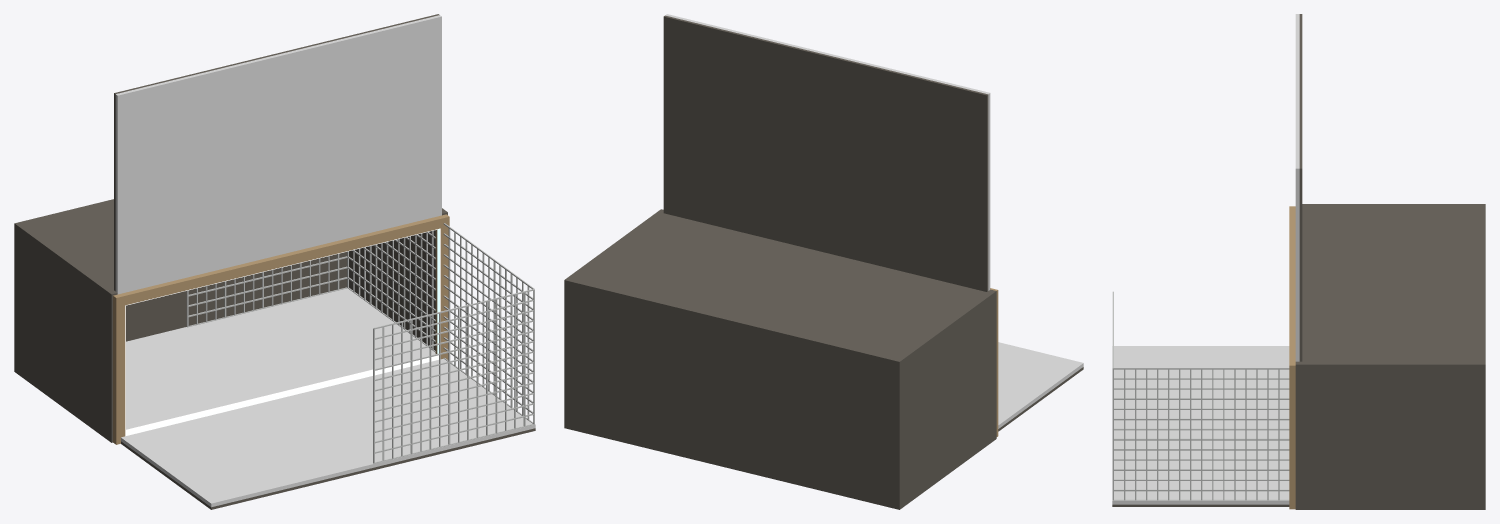
The model's file is soc_goal.fbx.
3 views of the same model, side by side, from view 1: azimuth 30°, elevation 25°; view 2: azimuth 150°, elevation 25°; view 3: azimuth 270°, elevation 25° (orthographic). The views are drawn at different scales.
Parts seen in each view (by area): view 1: wall_1, floor_1, sub_1, net_1, trim_1, team_blue_1; view 2: sub_1, floor_1, wall_1; view 3: sub_1, floor_1, net_1, trim_1, wall_1.
Part boxes in pixels (<box>): wall_1: <box>115,15,441,294</box>; floor_1: <box>121,288,535,507</box>; sub_1: <box>14,14,535,509</box>; net_1: <box>186,223,534,463</box>; trim_1: <box>113,214,449,444</box>; team_blue_1: <box>125,228,440,436</box>; sub_1: <box>564,15,1083,509</box>; floor_1: <box>998,342,1083,428</box>; wall_1: <box>665,14,990,290</box>; sub_1: <box>1112,14,1485,509</box>; floor_1: <box>1112,346,1289,504</box>; net_1: <box>1112,291,1289,500</box>; trim_1: <box>1289,206,1295,509</box>; wall_1: <box>1295,14,1299,361</box>.
Bounding box in the file's own units: 3.32 × 3.26 × 3.26.
